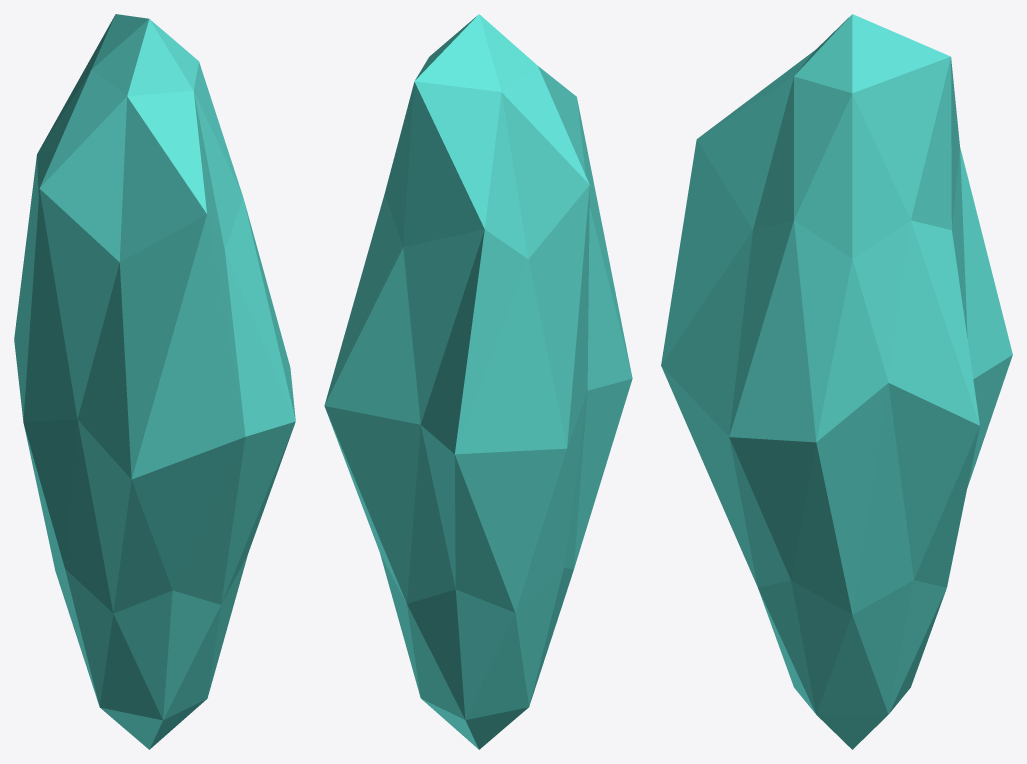
File: ice_crystal.glb
The picture shows the model from 3 angles, left to right: view 1: azimuth 30°, elevation 25°; view 2: azimuth 150°, elevation 25°; view 3: azimuth 270°, elevation 25°; orthographic projection.
Parts seen in each view (by area): view 1: Icosphere; view 2: Icosphere; view 3: Icosphere.
Part boxes in pixels (left/top/right/bottom): Icosphere: left=14, top=14, right=295, bottom=749; Icosphere: left=324, top=14, right=632, bottom=749; Icosphere: left=661, top=14, right=1012, bottom=749.
Bounding box in the file's own units: 0.5 × 1.5 × 0.65.
